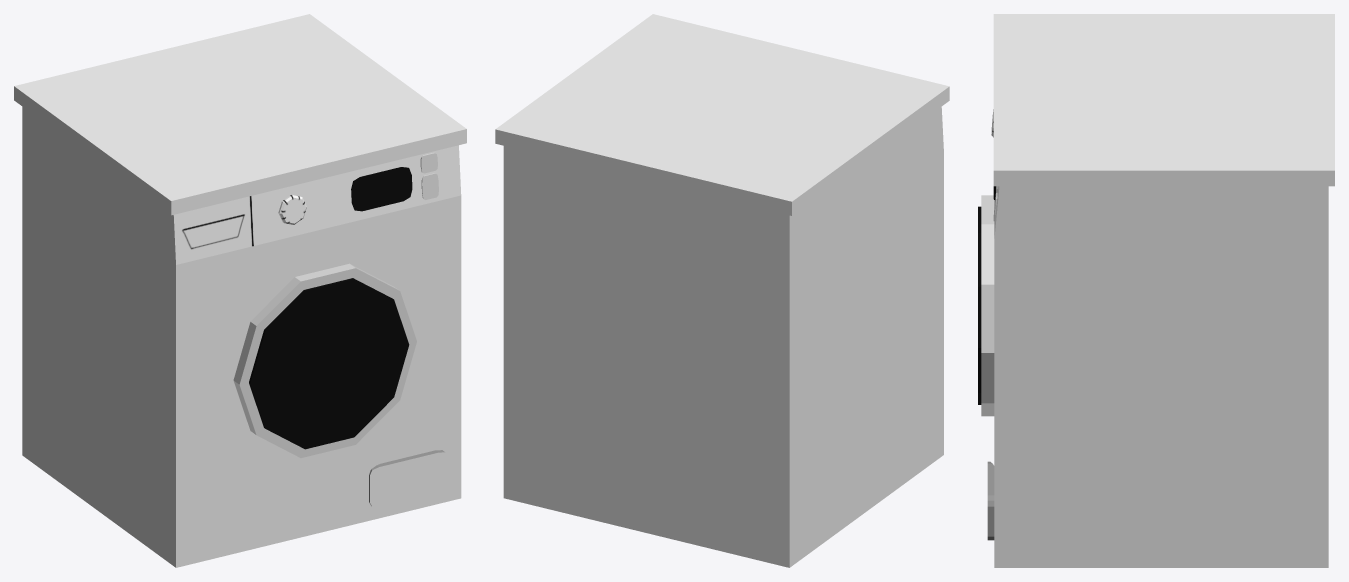
Rendered from washing_machine.fbx.
The picture shows the model from 3 angles, left to right: view 1: azimuth 30°, elevation 25°; view 2: azimuth 150°, elevation 25°; view 3: azimuth 270°, elevation 25°; orthographic projection. The views are drawn at different scales.
Visible parts, largest first — view 1: washing_machine; view 2: washing_machine; view 3: washing_machine.
Part boxes in pixels (x1,y1,x2,y2): washing_machine: (14, 14, 466, 567); washing_machine: (495, 14, 949, 567); washing_machine: (978, 14, 1334, 567).
Size of the model in its own units: 8.3 by 9.88 by 7.98.
Materials: 1 (1 with a texture image).
